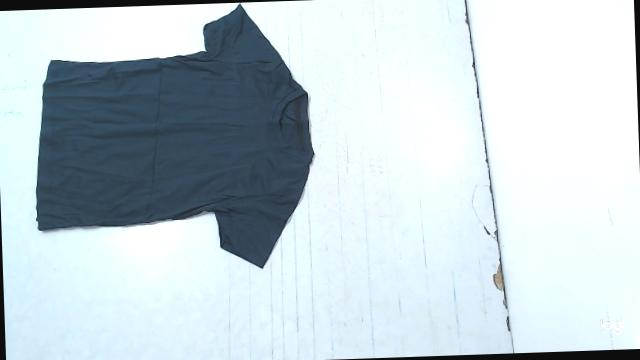new-garment: (37, 5, 313, 267)
